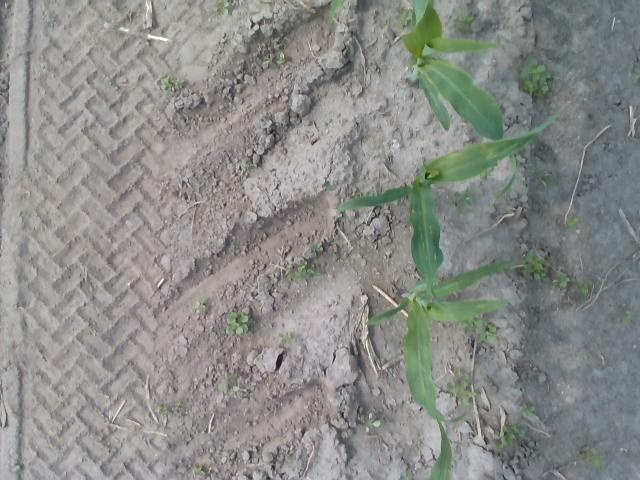Maize: (333, 102, 567, 307), (328, 0, 519, 201), (364, 259, 506, 422), (399, 418, 454, 480)
Weeds: (521, 58, 551, 98), (447, 382, 477, 406), (524, 250, 548, 280), (448, 15, 474, 34), (227, 314, 250, 334), (286, 268, 316, 280), (455, 190, 474, 207), (500, 426, 515, 446), (580, 446, 596, 464), (552, 272, 570, 288), (366, 412, 380, 432), (454, 368, 470, 384), (463, 320, 482, 332), (162, 77, 181, 89), (262, 55, 276, 69), (479, 331, 495, 343), (521, 405, 536, 416), (309, 242, 325, 252), (394, 10, 404, 26), (219, 374, 229, 390), (578, 281, 590, 294), (216, 0, 228, 13), (512, 424, 524, 436), (540, 172, 550, 185), (298, 260, 308, 272), (280, 332, 292, 342), (195, 298, 205, 310), (277, 52, 286, 65), (193, 466, 204, 476), (624, 311, 633, 322), (322, 181, 332, 190), (570, 220, 580, 229), (156, 404, 165, 414), (174, 399, 183, 408), (495, 440, 502, 450), (233, 386, 240, 395), (446, 200, 456, 206), (246, 161, 256, 167)
